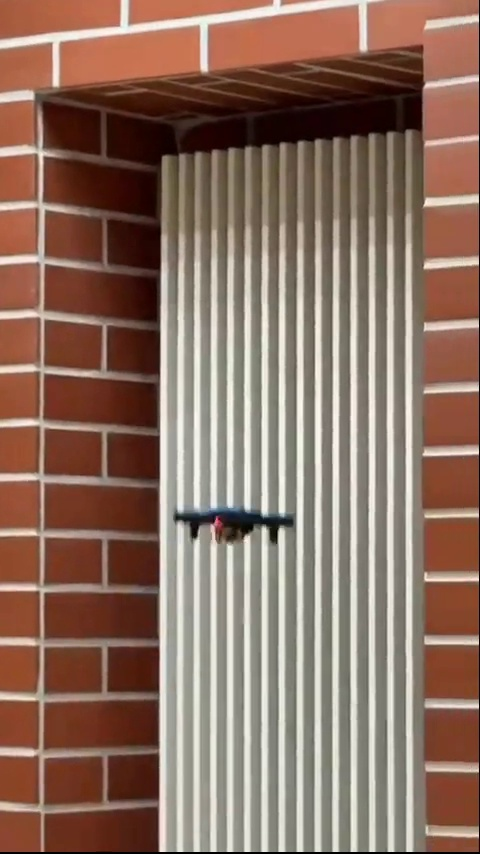drone: (176, 503, 294, 547)
